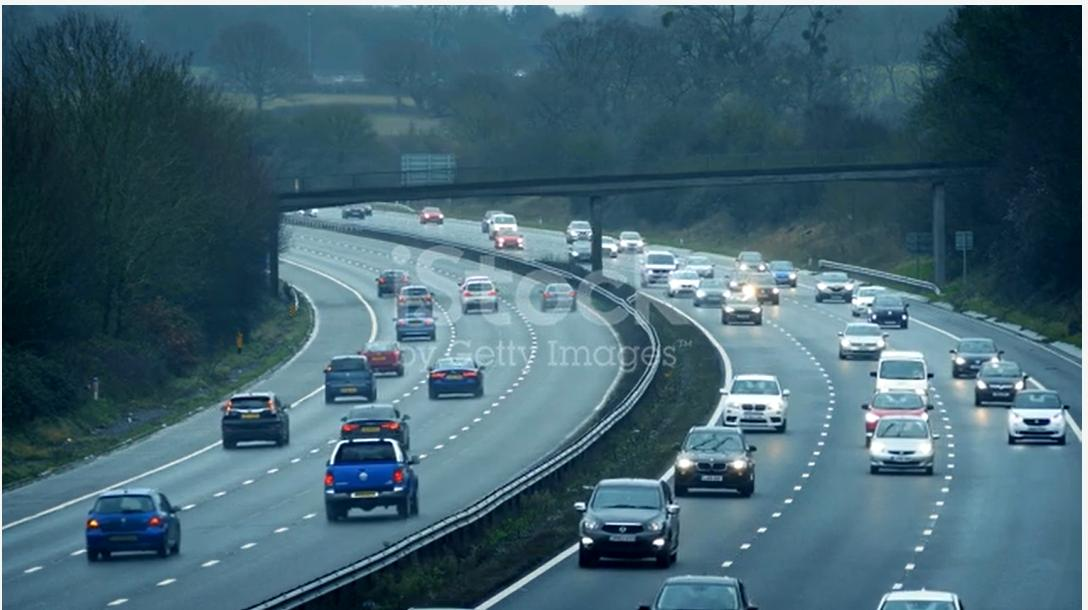car: (569, 453, 696, 588), (663, 407, 782, 520), (83, 473, 203, 576), (311, 429, 431, 530), (203, 381, 310, 457), (859, 402, 950, 481), (704, 360, 799, 430), (995, 381, 1073, 460), (867, 337, 936, 422), (313, 341, 384, 413), (427, 343, 487, 409), (385, 304, 455, 354), (977, 349, 1020, 406), (833, 318, 887, 362), (945, 337, 991, 388), (809, 268, 861, 310), (529, 278, 585, 316), (361, 326, 399, 381), (863, 288, 912, 328), (384, 284, 444, 316), (748, 270, 788, 318), (458, 274, 497, 323), (492, 220, 534, 262), (639, 248, 677, 293), (720, 290, 762, 329), (662, 273, 711, 306), (565, 235, 604, 271), (695, 279, 730, 317), (373, 262, 413, 295), (769, 253, 799, 292), (615, 223, 646, 259), (737, 244, 768, 278)
